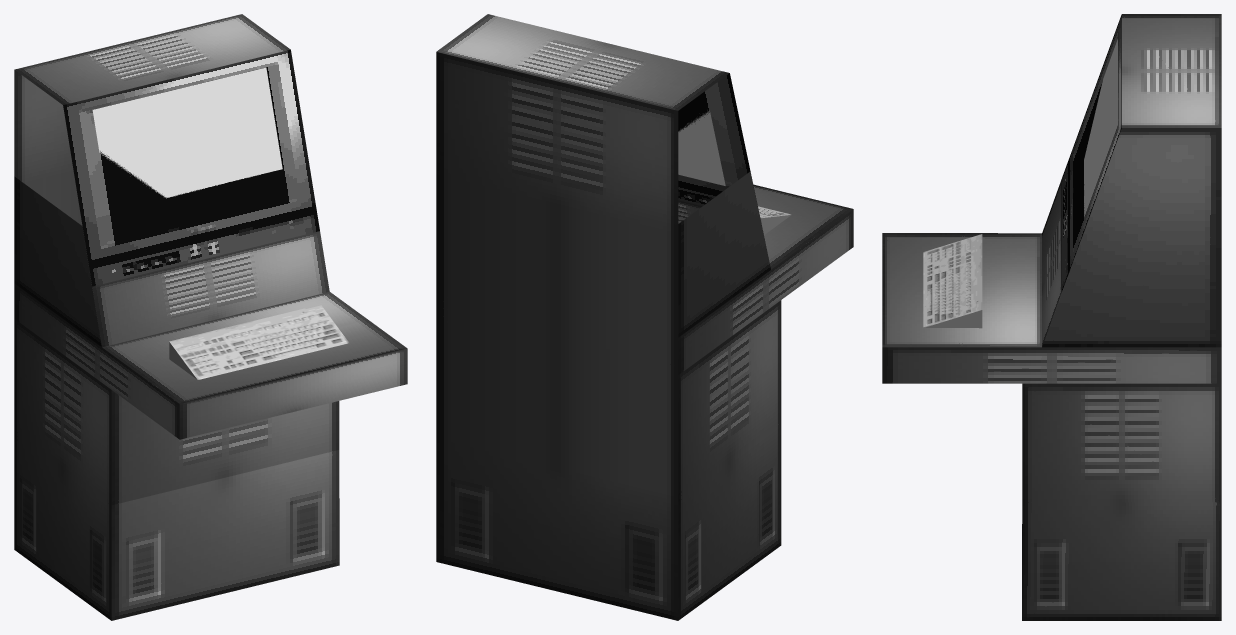
The model's file is primary_083.glb.
3 views of the same model, side by side, from view 1: azimuth 30°, elevation 25°; view 2: azimuth 150°, elevation 25°; view 3: azimuth 270°, elevation 25° (orthographic). The views are drawn at different scales.
Visible parts, largest first — view 1: Object; view 2: Object; view 3: Object.
Boxes of the visible parts, x1,y1,x2,y2 form: Object: (14, 14, 407, 620); Object: (436, 14, 853, 620); Object: (882, 14, 1221, 620).
Bounding box in the file's own units: 0.8845 × 1.78 × 1.11.
19 materials, 19 textured.
